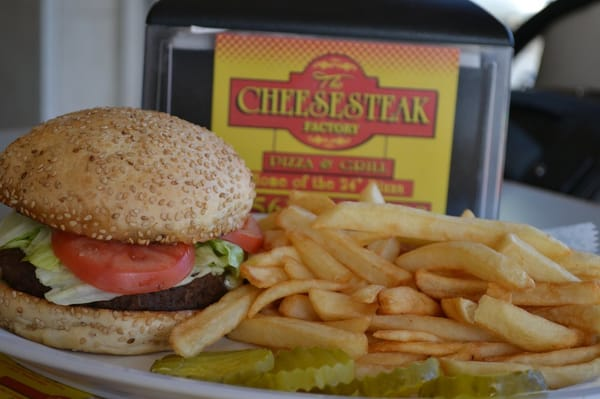soup: (0, 106, 263, 357)
